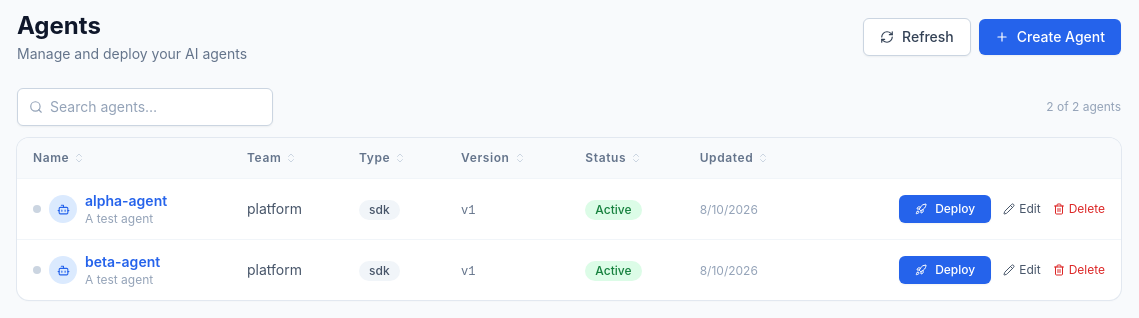
Scenario: AgentListPage › filters agent rows when search text is typed
Expected: the link "alpha-agent" is shown, [85, 192, 167, 209]
Type "beta" into the field with placeholder "Search agents…" at (145, 107), box [17, 88, 273, 126]
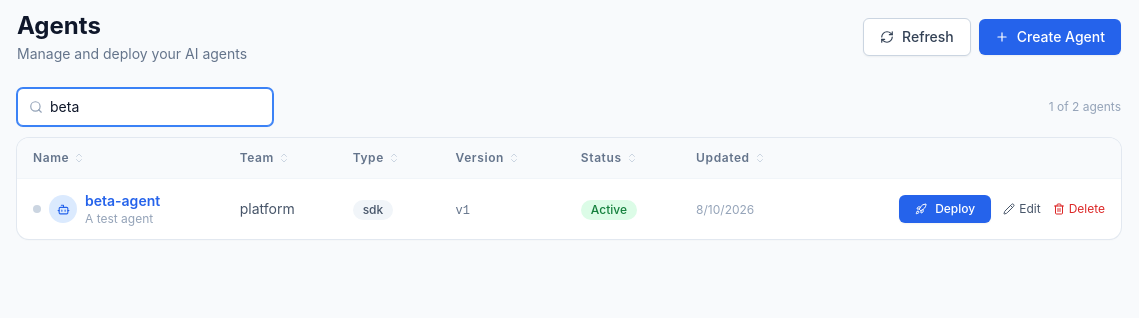
Expected: the link "beta-agent" is shown, [85, 192, 160, 209]
Result: the link "alpha-agent" is gone
